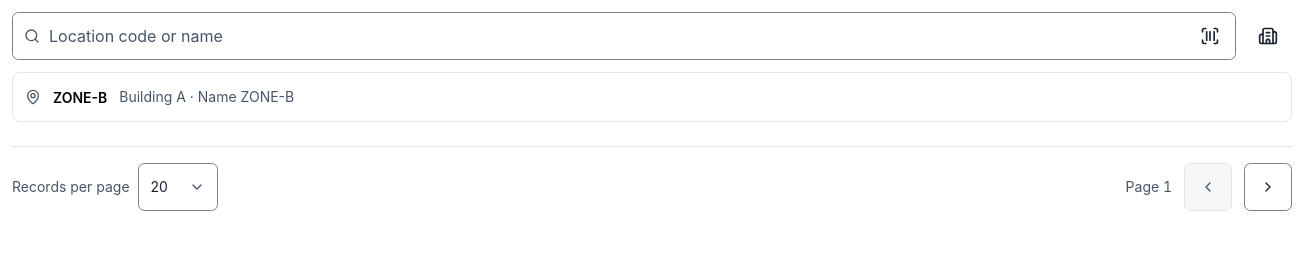
Test: pages with the shared pager and keeps the previous page disabled while the next loads
What coordinates should you click on to do the following:
click the button named "Next page"
I would click on:
 (1268, 187)
Its box is [1244, 163, 1292, 211].
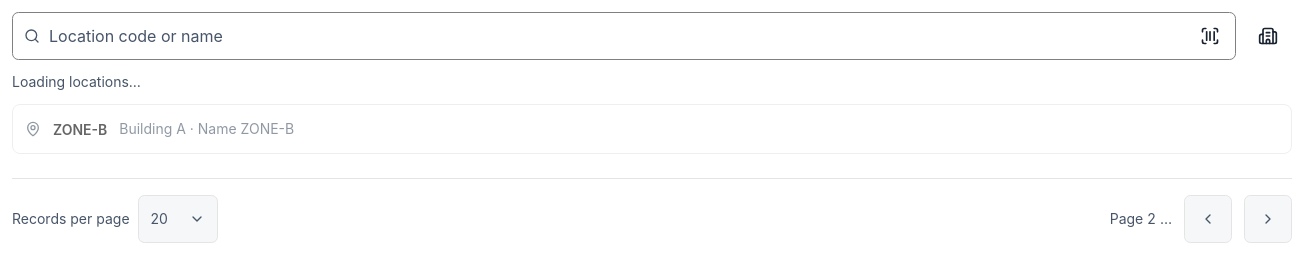
Check: the button "ZONE-B Building A · Name ZONE-B" is disabled, box [13, 105, 1291, 153]
Check: the button named "Next page" is disabled, box [1244, 195, 1292, 243]
Check: the text "Page 2 …" is shown, box [1110, 210, 1172, 227]
